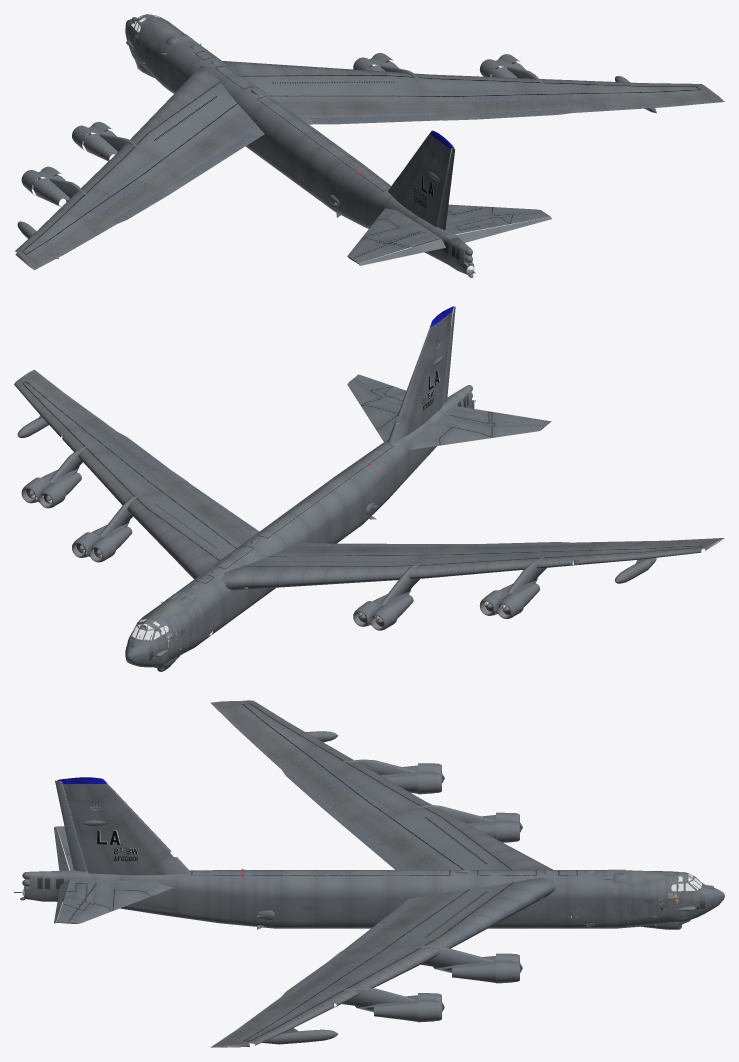
The picture shows the model from 3 angles, top to bottom: view 1: azimuth 30°, elevation 25°; view 2: azimuth 150°, elevation 25°; view 3: azimuth 270°, elevation 25°; orthographic projection. The views are drawn at different scales.
Parts seen in each view (by area): view 1: WingRight_11, WingLeft_10, Fuselage_12, HorizontalStabilizers_4, Engines_1, VerticalStabilizer_9, Rudder_8; view 2: Fuselage_12, WingRight_11, WingLeft_10, Engines_1, HorizontalStabilizers_4, VerticalStabilizer_9, RandomStuff_5; view 3: Fuselage_12, WingLeft_10, WingRight_11, Engines_1, VerticalStabilizer_9, HorizontalStabilizers_4, Rudder_8.
Part boxes in pixels (x1,y1,x2,y2): WingRight_11: (222, 61, 724, 124); WingLeft_10: (14, 65, 264, 270); Fuselage_12: (125, 14, 474, 277); HorizontalStabilizers_4: (347, 204, 551, 265); Engines_1: (17, 53, 656, 258); VerticalStabilizer_9: (388, 130, 454, 227); Rudder_8: (437, 147, 455, 229); Fuselage_12: (125, 385, 474, 667); WingRight_11: (14, 369, 259, 579); WingLeft_10: (221, 538, 724, 590); Engines_1: (17, 415, 656, 630); HorizontalStabilizers_4: (347, 374, 551, 449); VerticalStabilizer_9: (388, 306, 454, 443); RandomStuff_5: (23, 400, 577, 659); Fuselage_12: (20, 869, 724, 929); WingLeft_10: (210, 700, 552, 869); WingRight_11: (210, 877, 555, 1047); Engines_1: (262, 731, 522, 1044); VerticalStabilizer_9: (57, 777, 190, 875); HorizontalStabilizers_4: (54, 826, 173, 923); Rudder_8: (55, 780, 87, 872).
Bounding box in the file's own units: 55.98 × 11.14 × 48.78.
27 materials, 22 textured.
